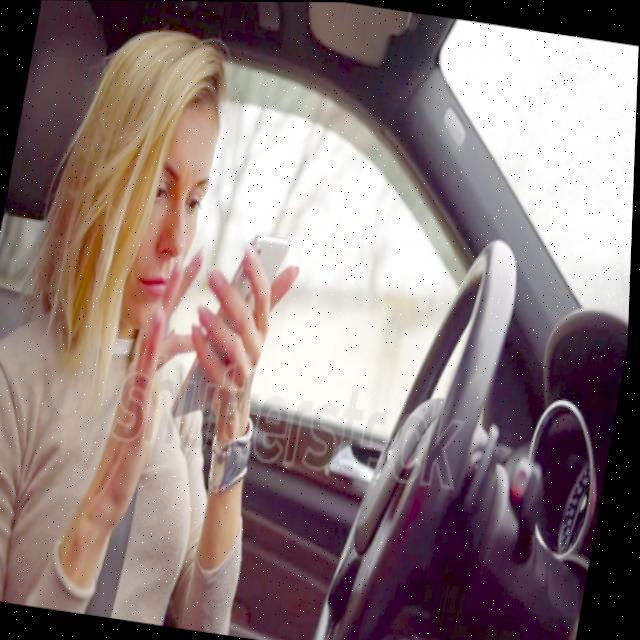PhoneCall: (175, 225, 293, 427)
